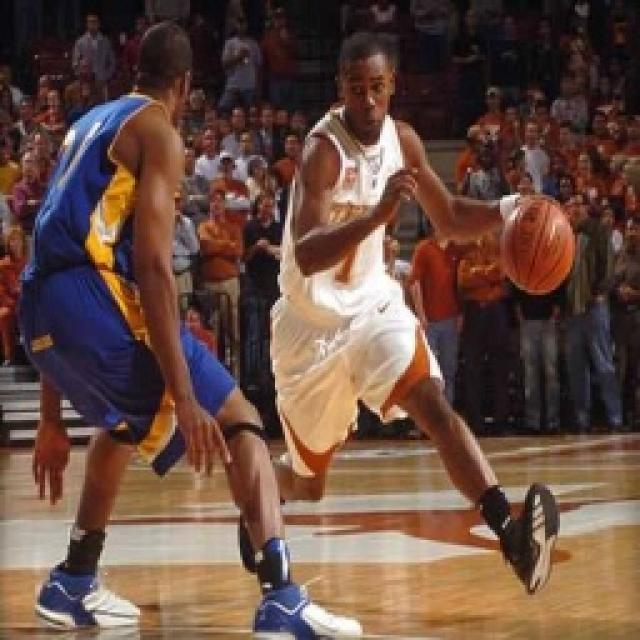rim: (494, 191, 582, 300)
